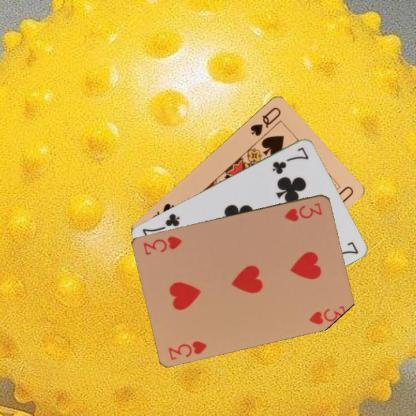3h: (166, 338, 209, 361), (282, 199, 324, 222)
7c: (270, 144, 310, 176)
Qs: (247, 104, 282, 137)
